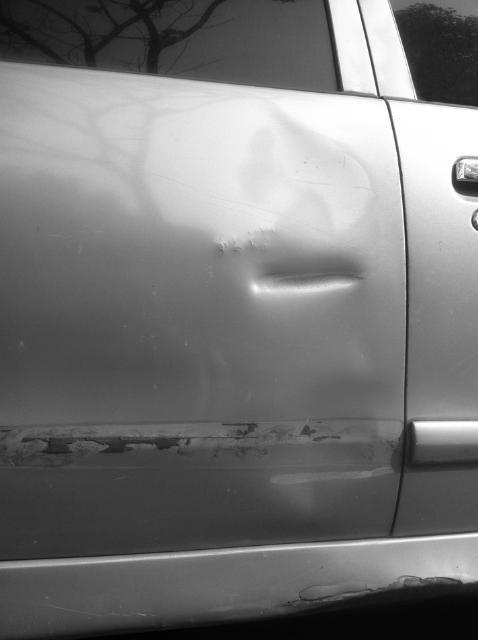Door: (97, 75, 402, 413)
